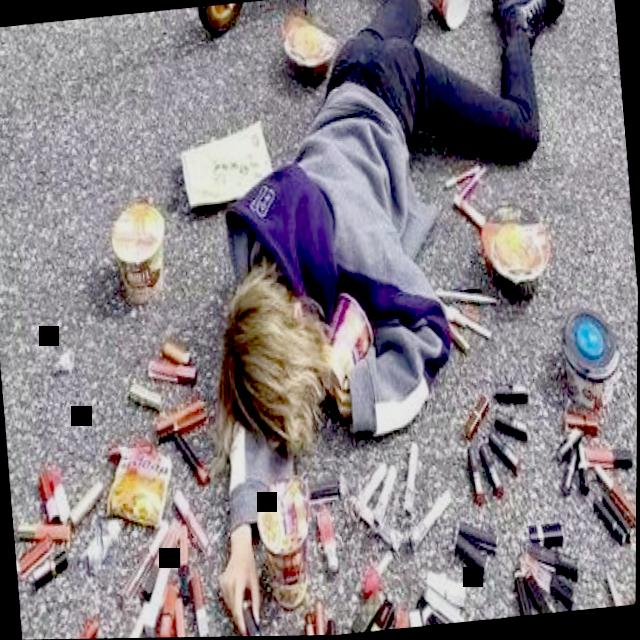Fall-Detected: (157, 0, 627, 638)
